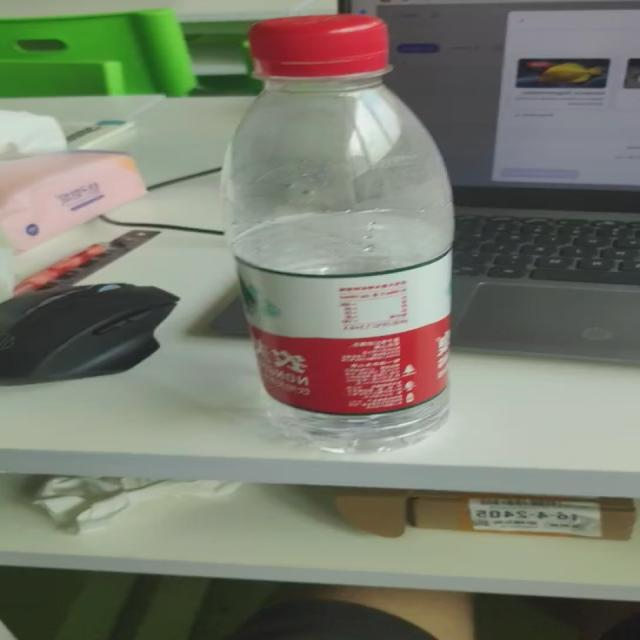plastic: (217, 14, 457, 461)
